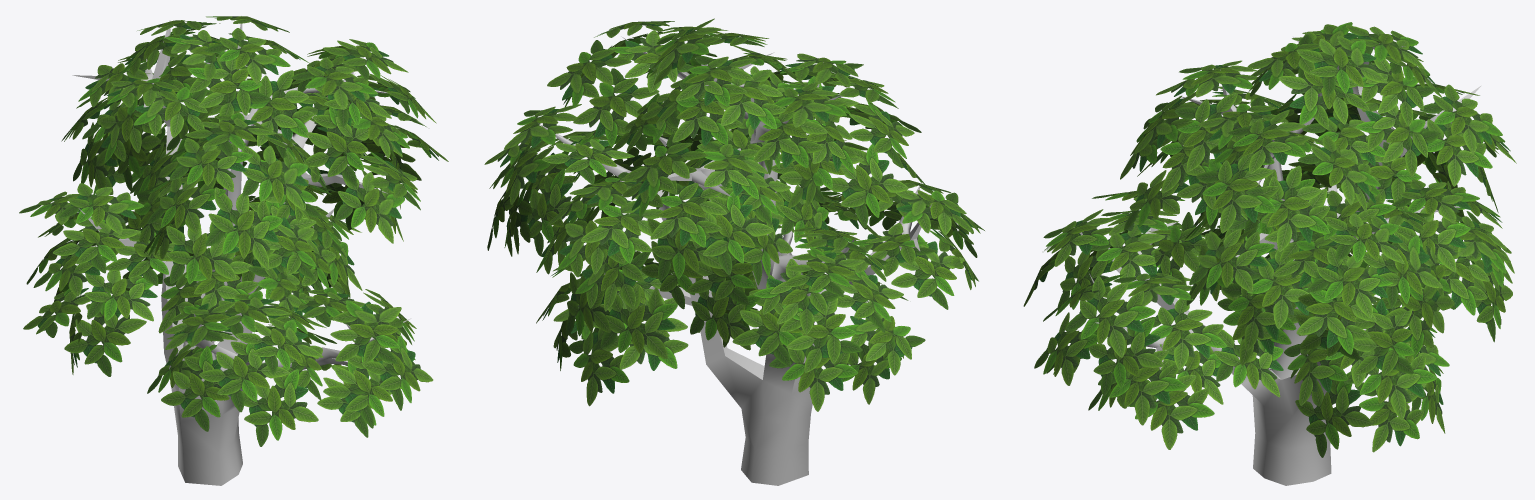
The model's file is SM_Tree.fbx.
The picture shows the model from 3 angles, left to right: view 1: azimuth 30°, elevation 25°; view 2: azimuth 150°, elevation 25°; view 3: azimuth 270°, elevation 25°; orthographic projection. The views are drawn at different scales.
Visible parts, largest first — view 1: P_Tree05.001, P_Tree05; view 2: P_Tree05.001, P_Tree05; view 3: P_Tree05.001, P_Tree05.
Part boxes in pixels (x1,y1,x2,y2): P_Tree05.001: (19,16,448,446); P_Tree05: (72,16,411,485); P_Tree05.001: (484,18,984,411); P_Tree05: (538,36,932,485); P_Tree05.001: (1023,22,1516,457); P_Tree05: (1073,37,1481,485).
Size of the model in its own units: 391 by 395 by 392.
